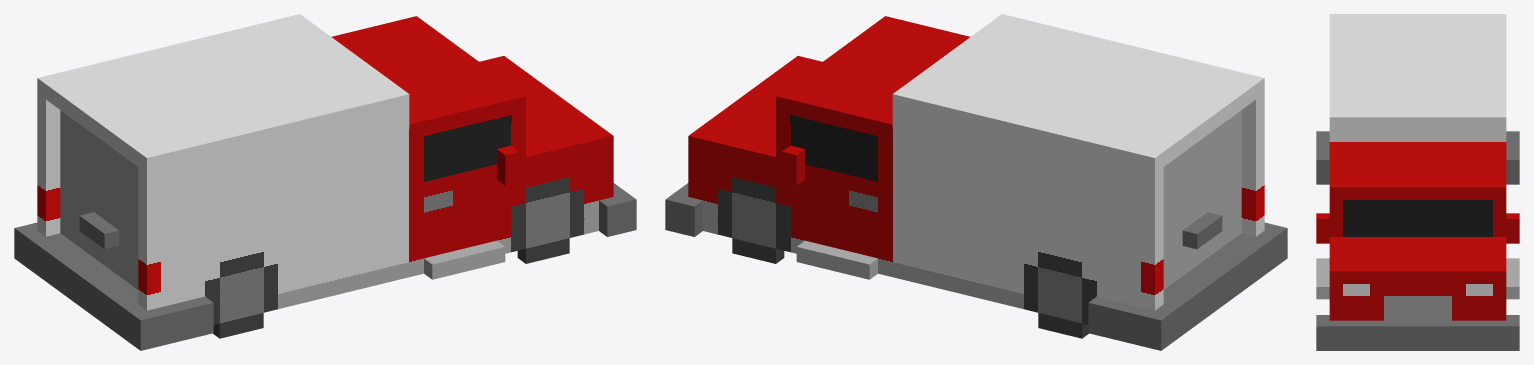
File: veh_truck1.fbx
3 renders of one model, left to right at view 1: azimuth 30°, elevation 25°; view 2: azimuth 150°, elevation 25°; view 3: azimuth 270°, elevation 25°, orthographic. The views are drawn at different scales.
Parts seen in each view (by area): view 1: veh_truck1; view 2: veh_truck1; view 3: veh_truck1.
Part boxes in pixels (box(x1,y1,x2,y2)): veh_truck1: box(14, 14, 636, 350); veh_truck1: box(665, 14, 1287, 350); veh_truck1: box(1316, 14, 1519, 350).
Bounding box in the file's own units: 3.4 × 1.5 × 1.3.
Materials: 1 (1 with a texture image).
